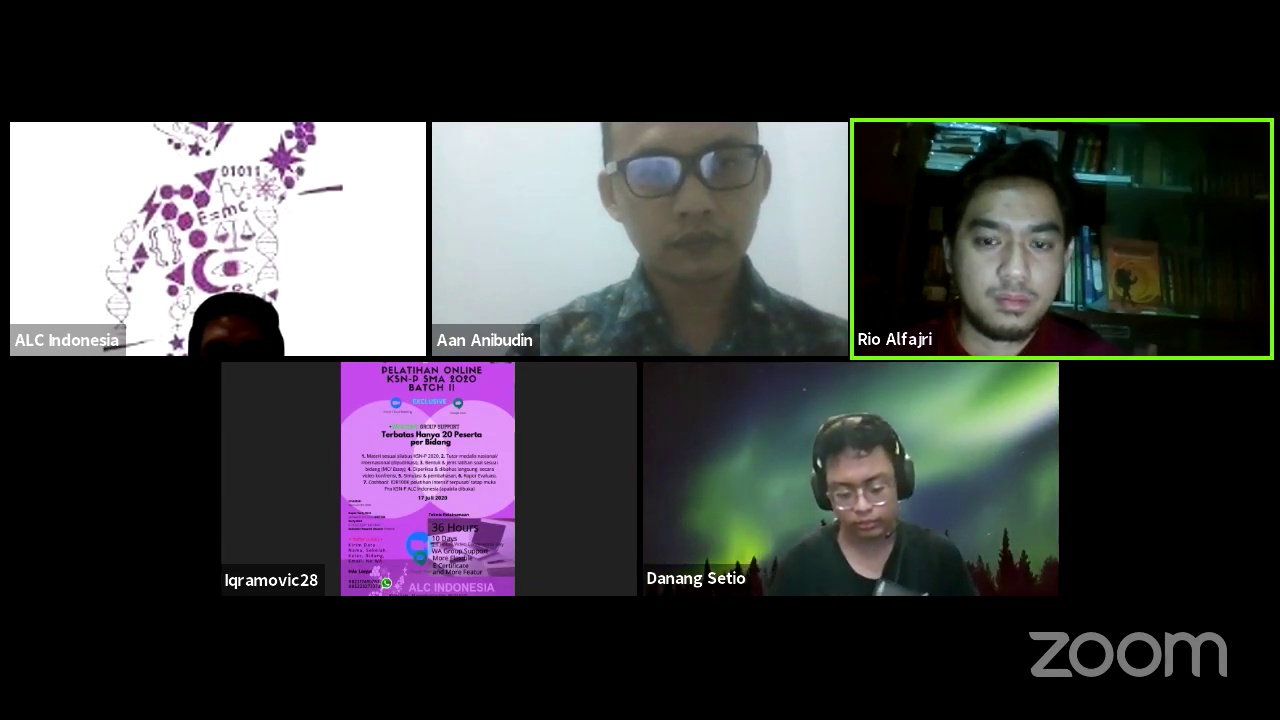Distracted: (803, 421, 927, 551)
Not Distracted: (595, 132, 777, 280), (940, 165, 1084, 330)
